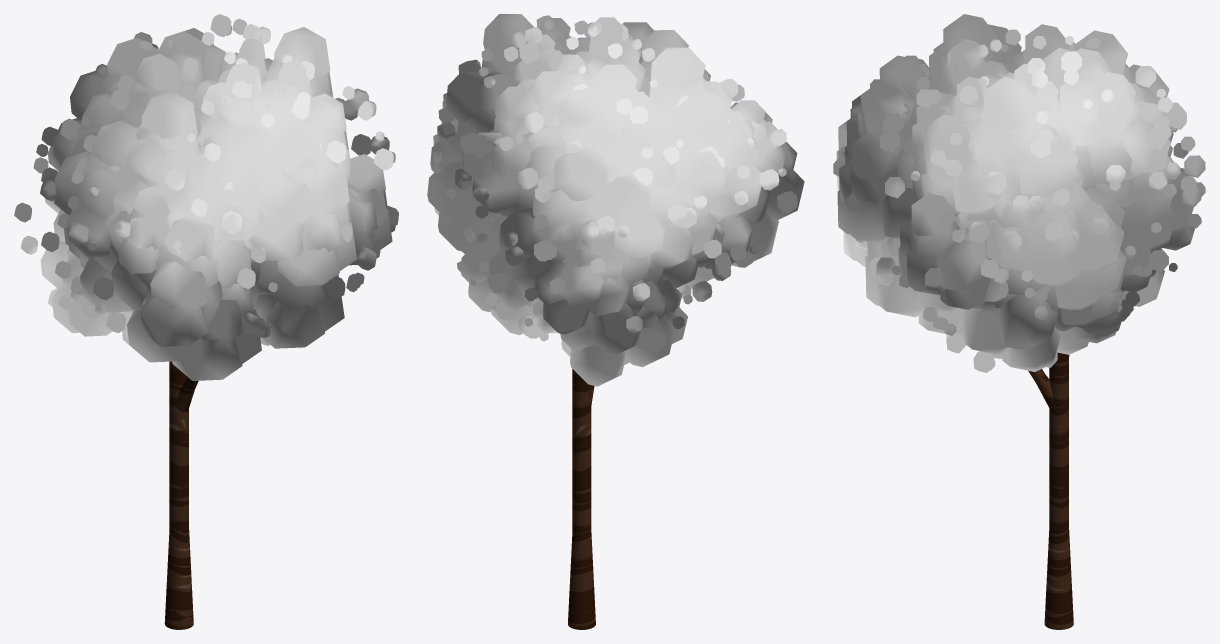
File: Tree_01.fbx
3 renders of one model, left to right at view 1: azimuth 30°, elevation 25°; view 2: azimuth 150°, elevation 25°; view 3: azimuth 270°, elevation 25°, orthographic. The views are drawn at different scales.
Visible parts, largest first — view 1: Foliage, Foliage Detail, Cylinder; view 2: Foliage, Foliage Detail, Cylinder; view 3: Foliage, Foliage Detail, Cylinder.
Part boxes in pixels (x1,y1,x2,y2): Foliage: (40,27,392,380); Foliage Detail: (14,14,398,345); Cylinder: (164,361,198,629); Foliage: (427,14,804,386); Foliage Detail: (433,15,797,351); Cylinder: (568,369,595,629); Foliage: (836,14,1194,371); Foliage Detail: (833,29,1205,372); Cylinder: (1028,352,1073,629).
Size of the model in its own units: 552 by 955 by 540.
